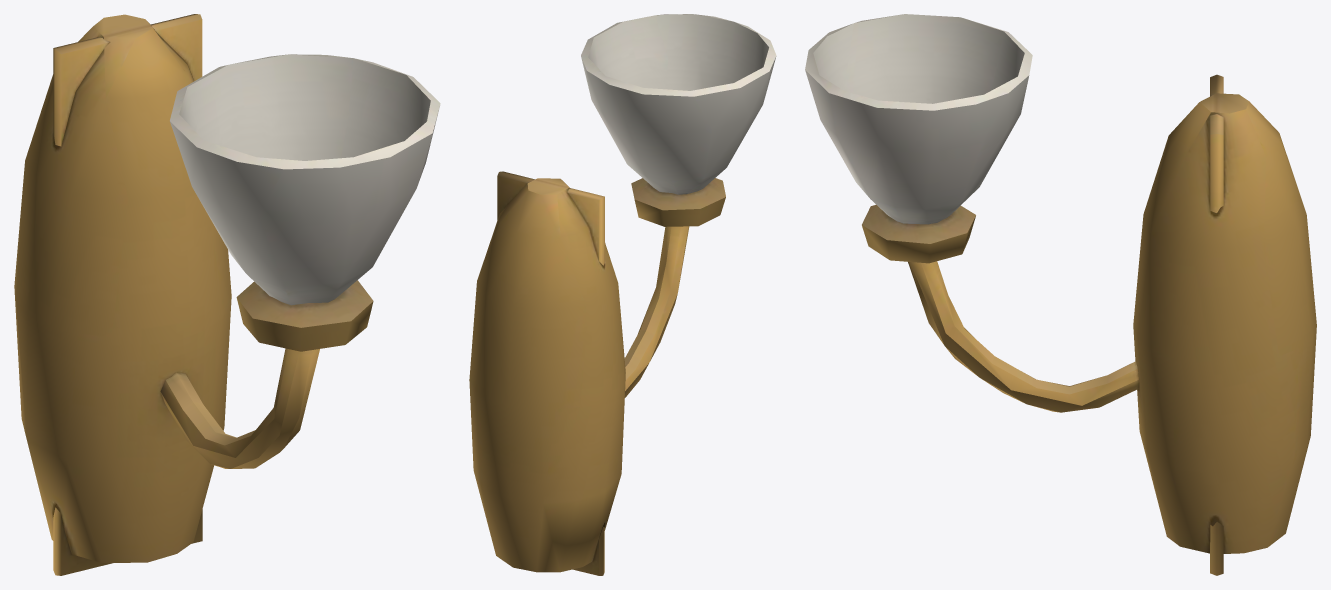
File: wall_sconce-low.glb
3 views of the same model, side by side, from view 1: azimuth 30°, elevation 25°; view 2: azimuth 150°, elevation 25°; view 3: azimuth 270°, elevation 25° (orthographic). The views are drawn at different scales.
Visible parts, largest first — view 1: wall_sconce-low; view 2: wall_sconce-low; view 3: wall_sconce-low.
Part boxes in pixels (box(x1,y1,x2,y2)): wall_sconce-low: box(14, 14, 440, 575); wall_sconce-low: box(469, 14, 776, 575); wall_sconce-low: box(805, 14, 1316, 575).
Size of the model in its own units: 0.1116 by 0.2635 by 0.2508.
Materials: 1 (1 with a texture image).
